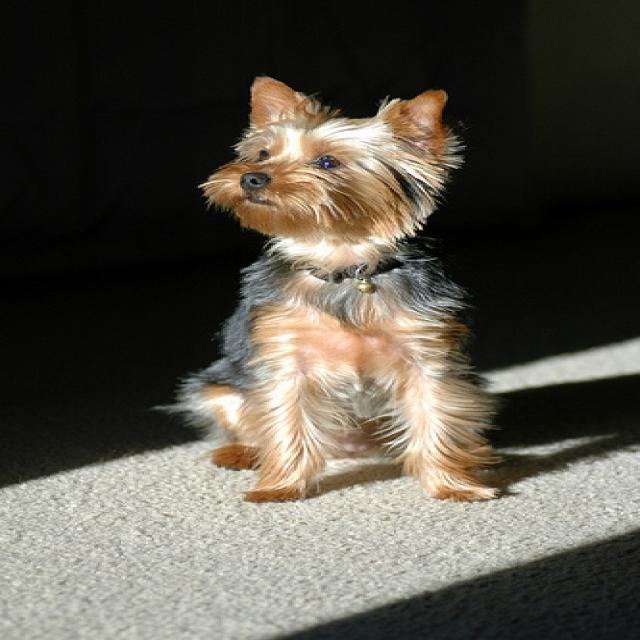dog-yorkshire_terrier: (152, 60, 515, 520)
